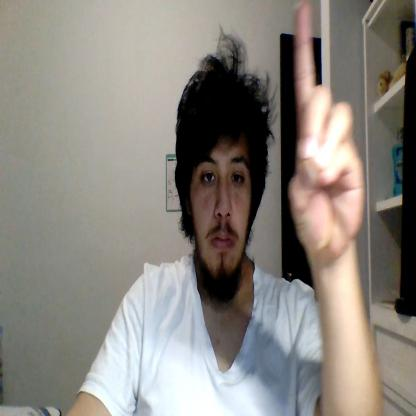D: (289, 0, 364, 260)
